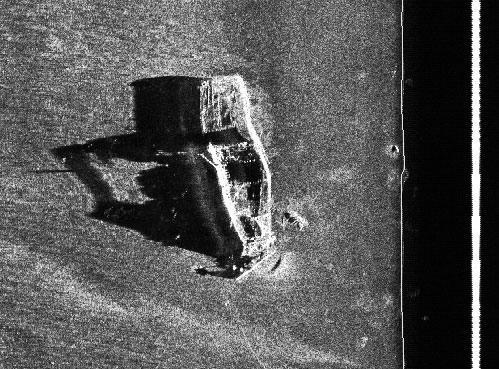ship: (154, 71, 272, 284)
